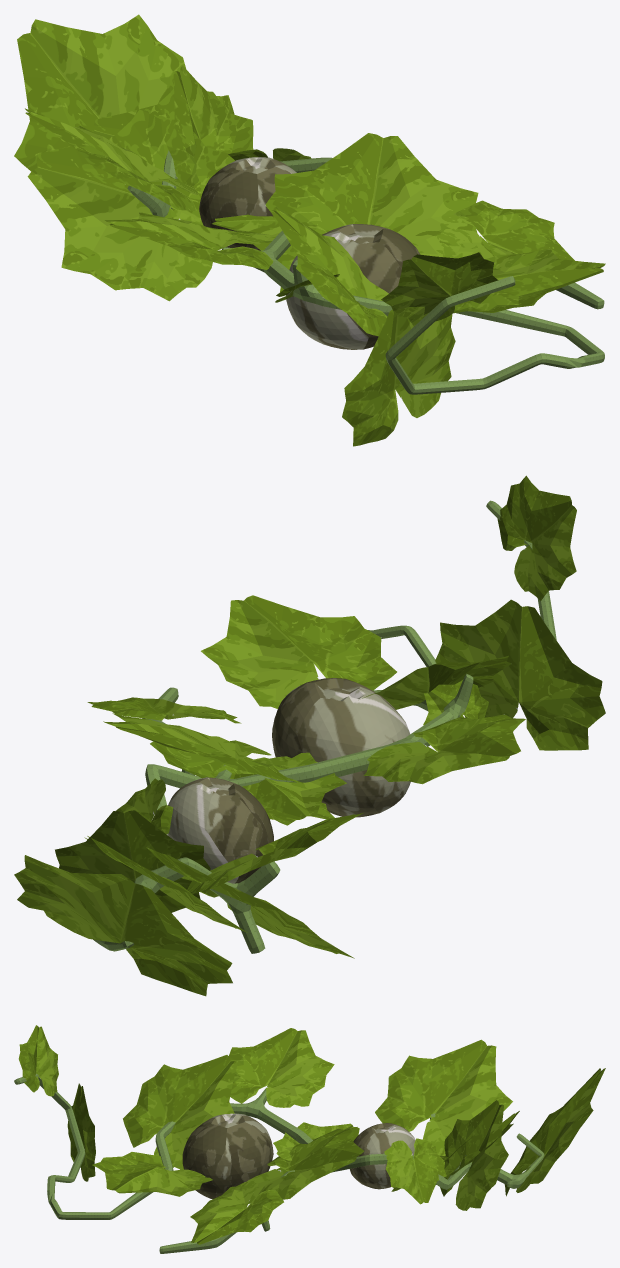
The model's file is cucurbitaceae.glb.
3 renders of one model, top to bottom at view 1: azimuth 30°, elevation 25°; view 2: azimuth 150°, elevation 25°; view 3: azimuth 270°, elevation 25°, orthographic. The views are drawn at different scales.
Parts seen in each view (by area): view 1: pumpkin plant; view 2: pumpkin plant; view 3: pumpkin plant.
Boxes of the visible parts, <box> form: pumpkin plant: <box>14,14,605,446</box>; pumpkin plant: <box>14,475,605,996</box>; pumpkin plant: <box>14,1025,605,1253</box>.
Bounding box in the file's own units: 1.87 × 0.9546 × 3.17.
Materials: 3 (3 with a texture image).
